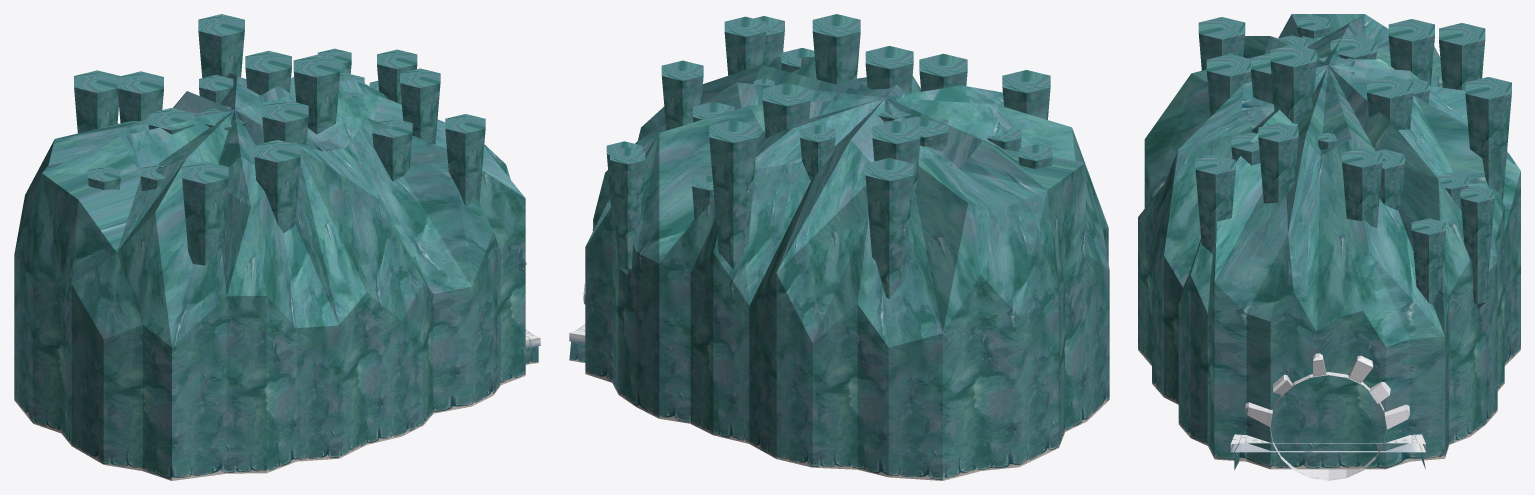
File: Bird's Peak Rock Interior.dae
3 views of the same model, side by side, from view 1: azimuth 30°, elevation 25°; view 2: azimuth 150°, elevation 25°; view 3: azimuth 270°, elevation 25° (orthographic). The views are drawn at different scales.
Visible parts, largest first — view 1: mesh-3; view 2: mesh-3; view 3: mesh-3, mesh-7, mesh-1, mesh-10.
Boxes of the visible parts, box(x1,y1,x2,y2) form: mesh-3: box(14, 14, 538, 480); mesh-3: box(569, 14, 1109, 480); mesh-3: box(1138, 14, 1520, 470); mesh-7: box(1245, 353, 1409, 480); mesh-1: box(1230, 434, 1425, 452); mesh-10: box(1239, 434, 1417, 443).
Bounding box in the file's own units: 3996 × 2952 × 2807.
11 materials, 11 textured.
